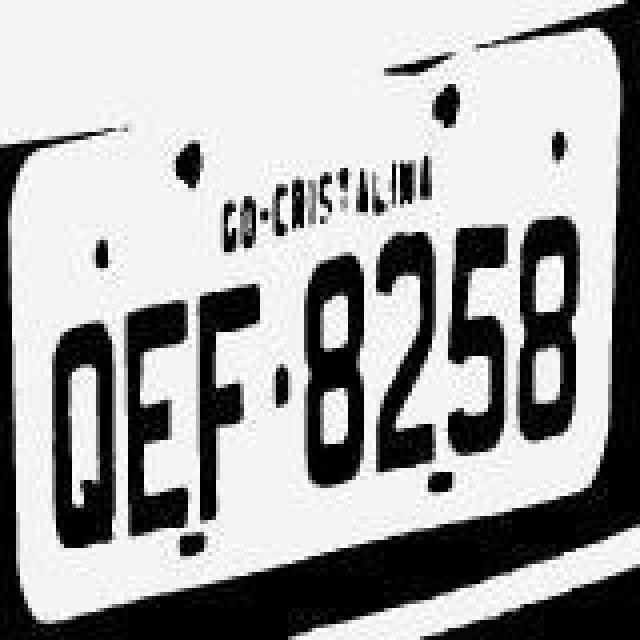2: (370, 236, 446, 468)
5: (444, 218, 516, 454)
8: (300, 256, 372, 480), (514, 220, 582, 452)
E: (120, 306, 200, 534)
F: (194, 284, 270, 524)
Q: (40, 326, 120, 546)
